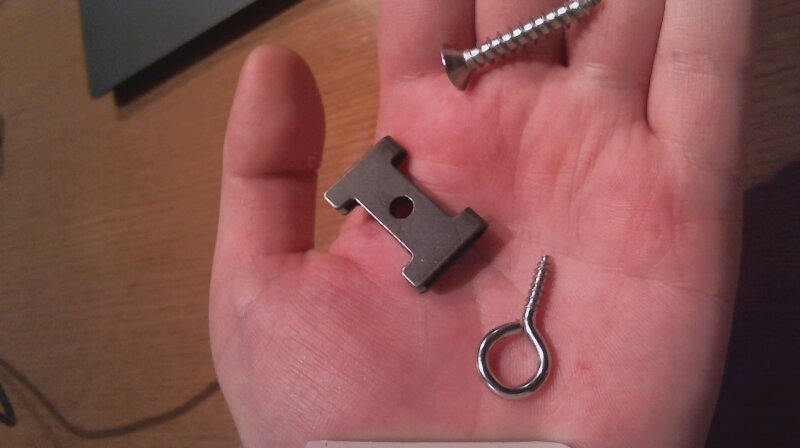O001: (474, 253, 557, 404)
O002: (320, 133, 491, 293)
S001: (433, 1, 617, 92)
